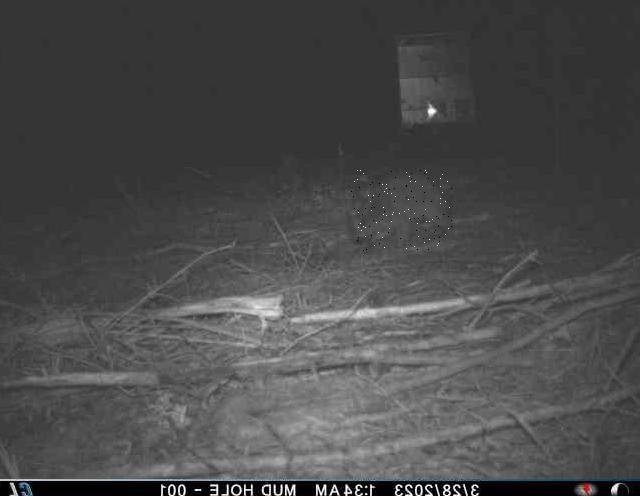Raccoon: (350, 170, 451, 252)
